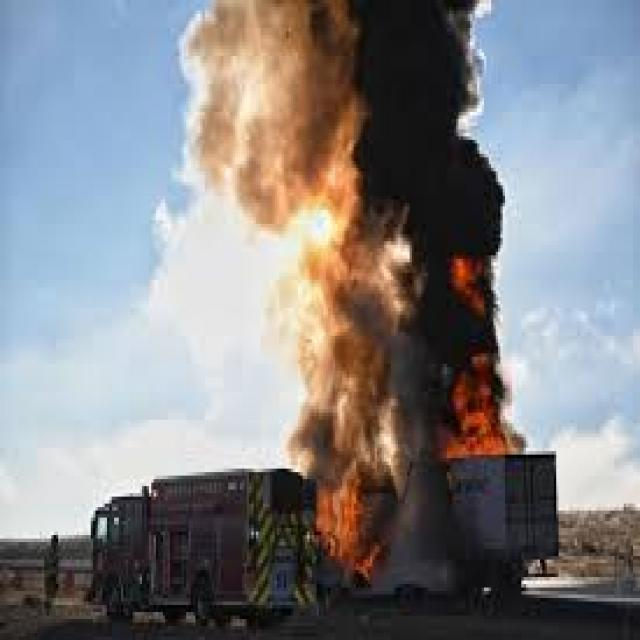fire: (312, 479, 386, 584), (449, 367, 514, 458), (449, 252, 491, 322)
smoke: (180, 7, 508, 252), (291, 241, 447, 483), (386, 468, 449, 602)
